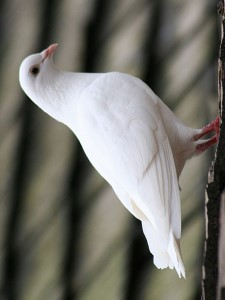pigeon: (16, 41, 221, 281)
